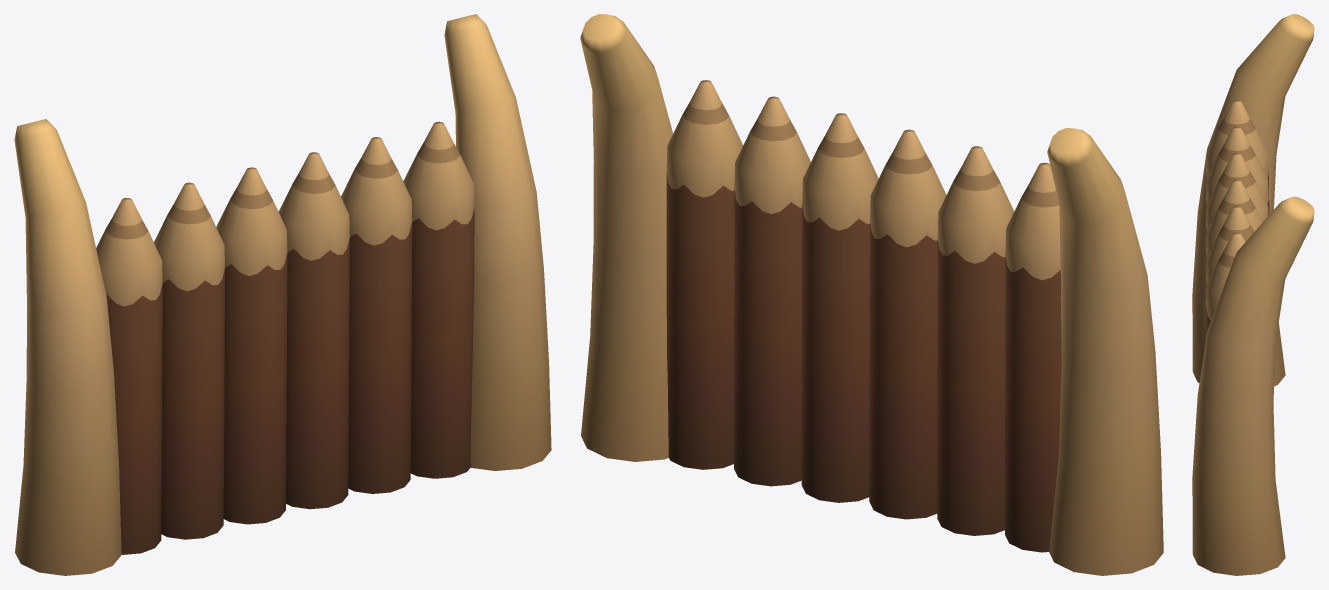
The model's file is Fence_1.fbx.
3 renders of one model, left to right at view 1: azimuth 30°, elevation 25°; view 2: azimuth 150°, elevation 25°; view 3: azimuth 270°, elevation 25°, orthographic. The views are drawn at different scales.
Parts seen in each view (by area): view 1: Fence_1; view 2: Fence_1; view 3: Fence_1.
Boxes of the visible parts, x1=… form: Fence_1: x1=14, y1=14, x2=551, y2=575; Fence_1: x1=580, y1=14, x2=1163, y2=575; Fence_1: x1=1192, y1=14, x2=1314, y2=575.
Bounding box in the file's own units: 244 × 184 × 56.76.
